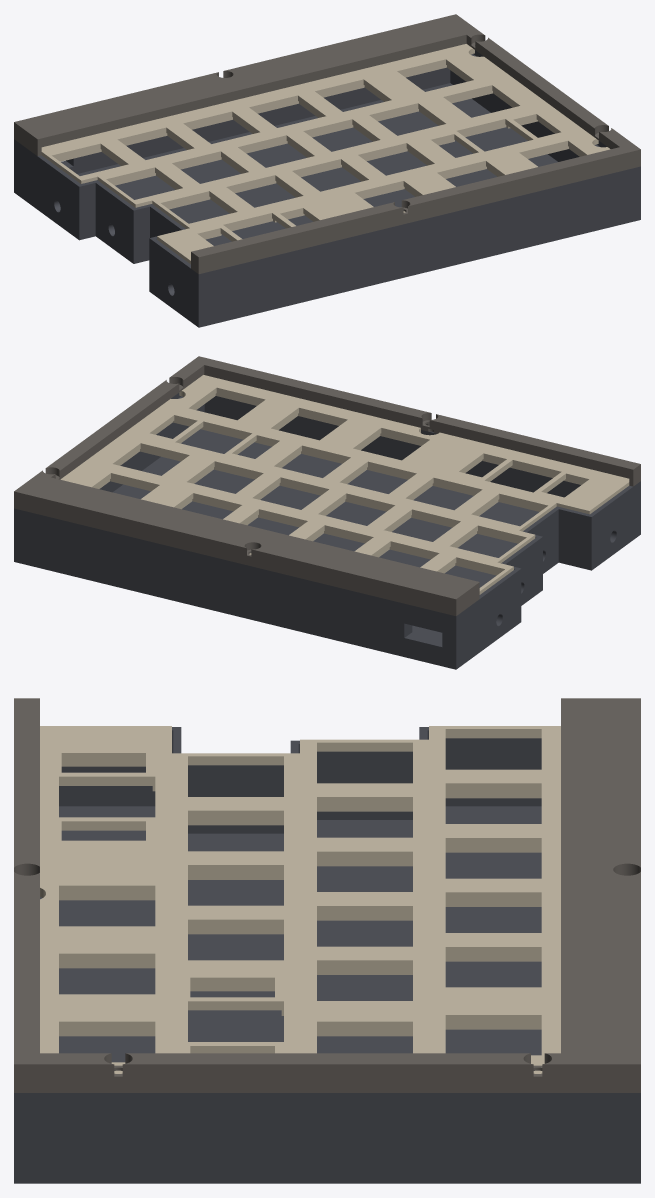
File: gemini_right_case.glb
3 renders of one model, top to bottom at view 1: azimuth 30°, elevation 25°; view 2: azimuth 150°, elevation 25°; view 3: azimuth 270°, elevation 25°, orthographic. The views are drawn at different scales.
Visible parts, largest first — view 1: bottom, plate, top; view 2: bottom, plate, top; view 3: bottom, plate, top.
Boxes of the visible parts, <box> form: bottom: <box>14,50,640,327</box>; plate: <box>41,44,610,264</box>; top: <box>14,14,640,273</box>; bottom: <box>14,393,640,669</box>; plate: <box>60,375,629,594</box>; top: <box>14,356,640,615</box>; bottom: <box>14,727,640,1183</box>; plate: <box>40,726,560,1073</box>; top: <box>14,698,640,1092</box>.
Size of the model in its own units: 128 by 19.5 by 92.7.
